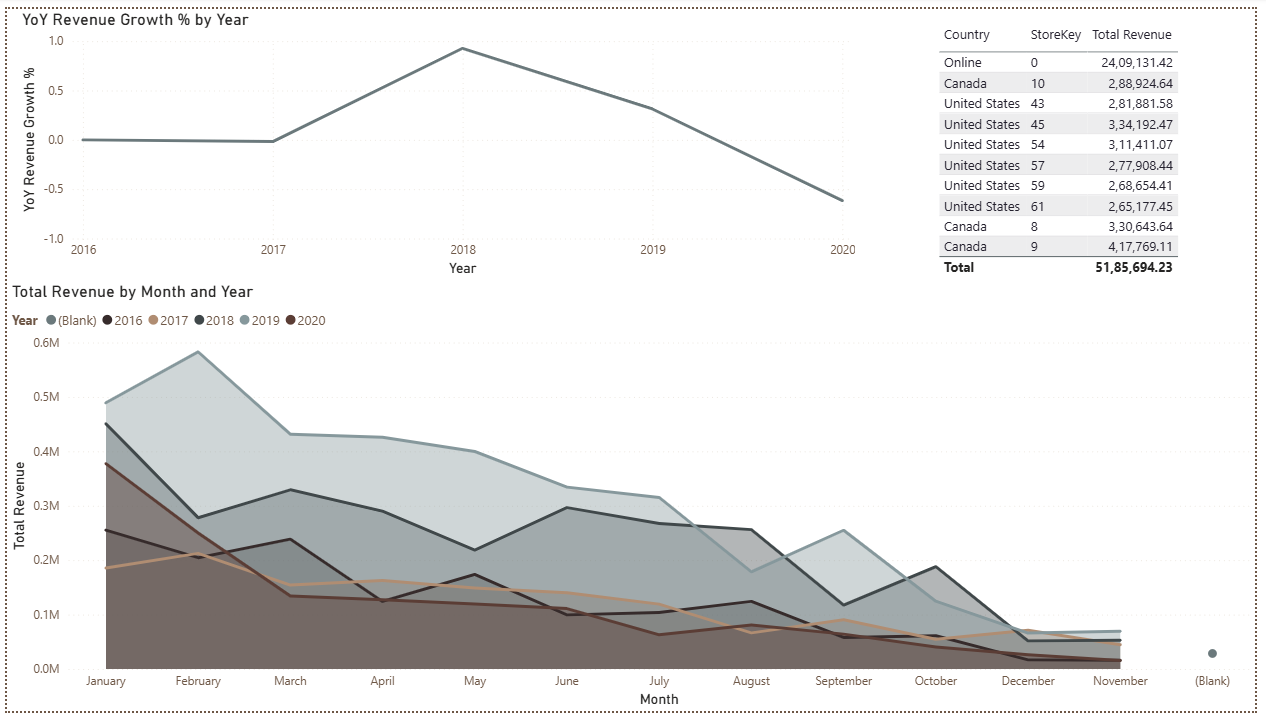

The page's visual inventory and layout, read from the dashboard file:
{"tool":"powerbi","page":{"name":"Page 4","canvas":[1280,720],"ordinal":3},"visuals":[{"type":"lineChart","fields":{"Category":["Calendar.Year"],"Y":["Sales.YoY Revenue Growth %"]},"box":[10.3,0,864.7,279.4],"z":0},{"type":"areaChart","fields":{"Y":["Sales.Total Revenue"],"Series":["Calendar.Year"],"Category":["Calendar.Month"]},"box":[0,279.4,1279.4,441.2],"z":1000},{"type":"tableEx","fields":{"Values":["Stores.Country","Stores.StoreKey","Sales.Total Revenue"]},"box":[950,10.3,313.2,322.1],"z":2000}]}

Visuals, with their boxes in screenshot pixels (x1, y1, x2, y2), scaled from the page's 1280x720 canvas onto the 1266x719 screenshot:
lineChart - Calendar.Year x Sales.YoY Revenue Growth %: <bbox>10, 0, 865, 279</bbox>
areaChart - Sales.Total Revenue x Calendar.Year: <bbox>0, 279, 1265, 718</bbox>
tableEx - Stores.Country x Stores.StoreKey: <bbox>940, 10, 1249, 332</bbox>
